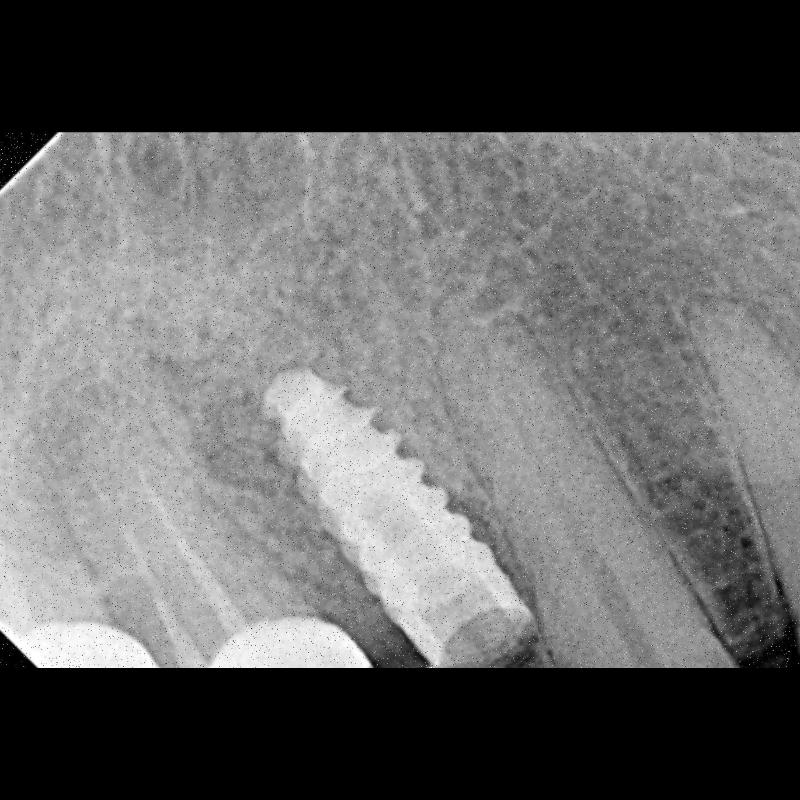NORIS: (262, 352, 536, 668)
